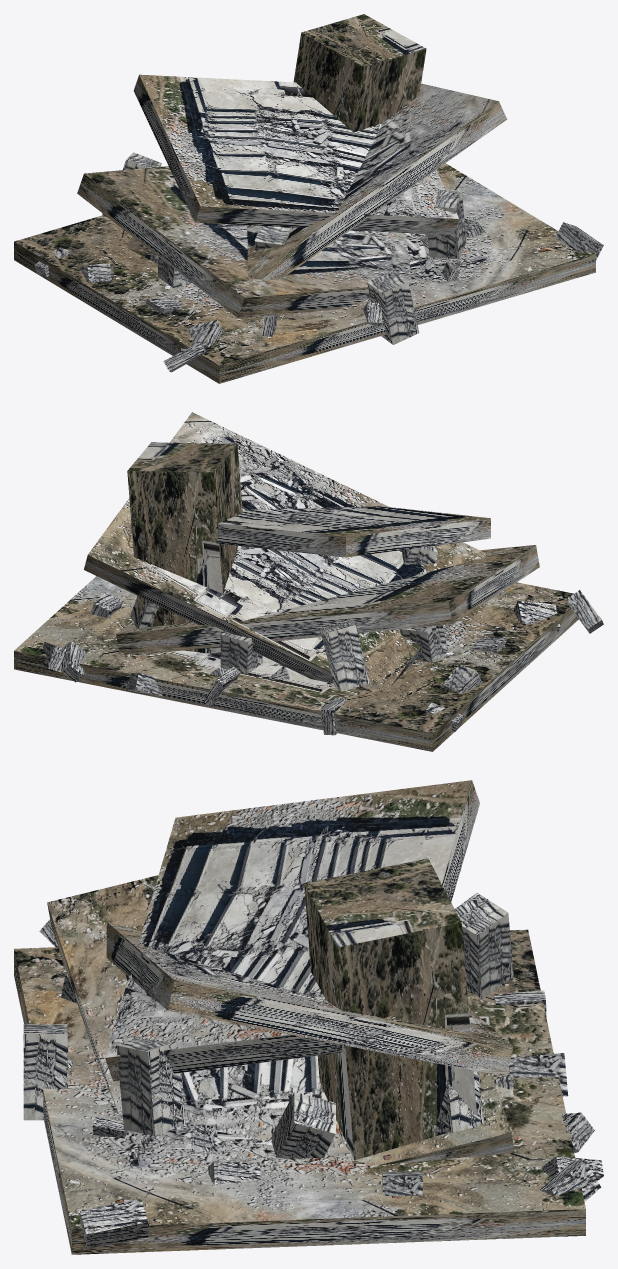
The model's file is destroyed_building.glb.
3 views of the same model, one above another, from view 1: azimuth 30°, elevation 25°; view 2: azimuth 150°, elevation 25°; view 3: azimuth 270°, elevation 25° (orthographic). The views are drawn at different scales.
Visible parts, largest first — view 1: DamageModel; view 2: DamageModel; view 3: DamageModel.
Part boxes in pixels (x1,y1,x2,y2): DamageModel: (14, 14, 603, 383); DamageModel: (14, 412, 603, 751); DamageModel: (14, 780, 603, 1254).
Size of the model in its own units: 20.17 by 9.47 by 16.
Materials: 1 (1 with a texture image).
